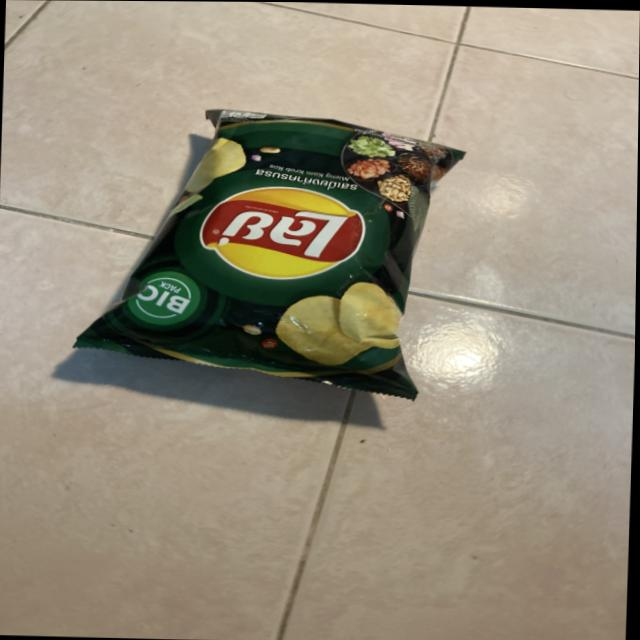Laygreen: (81, 93, 468, 410)
